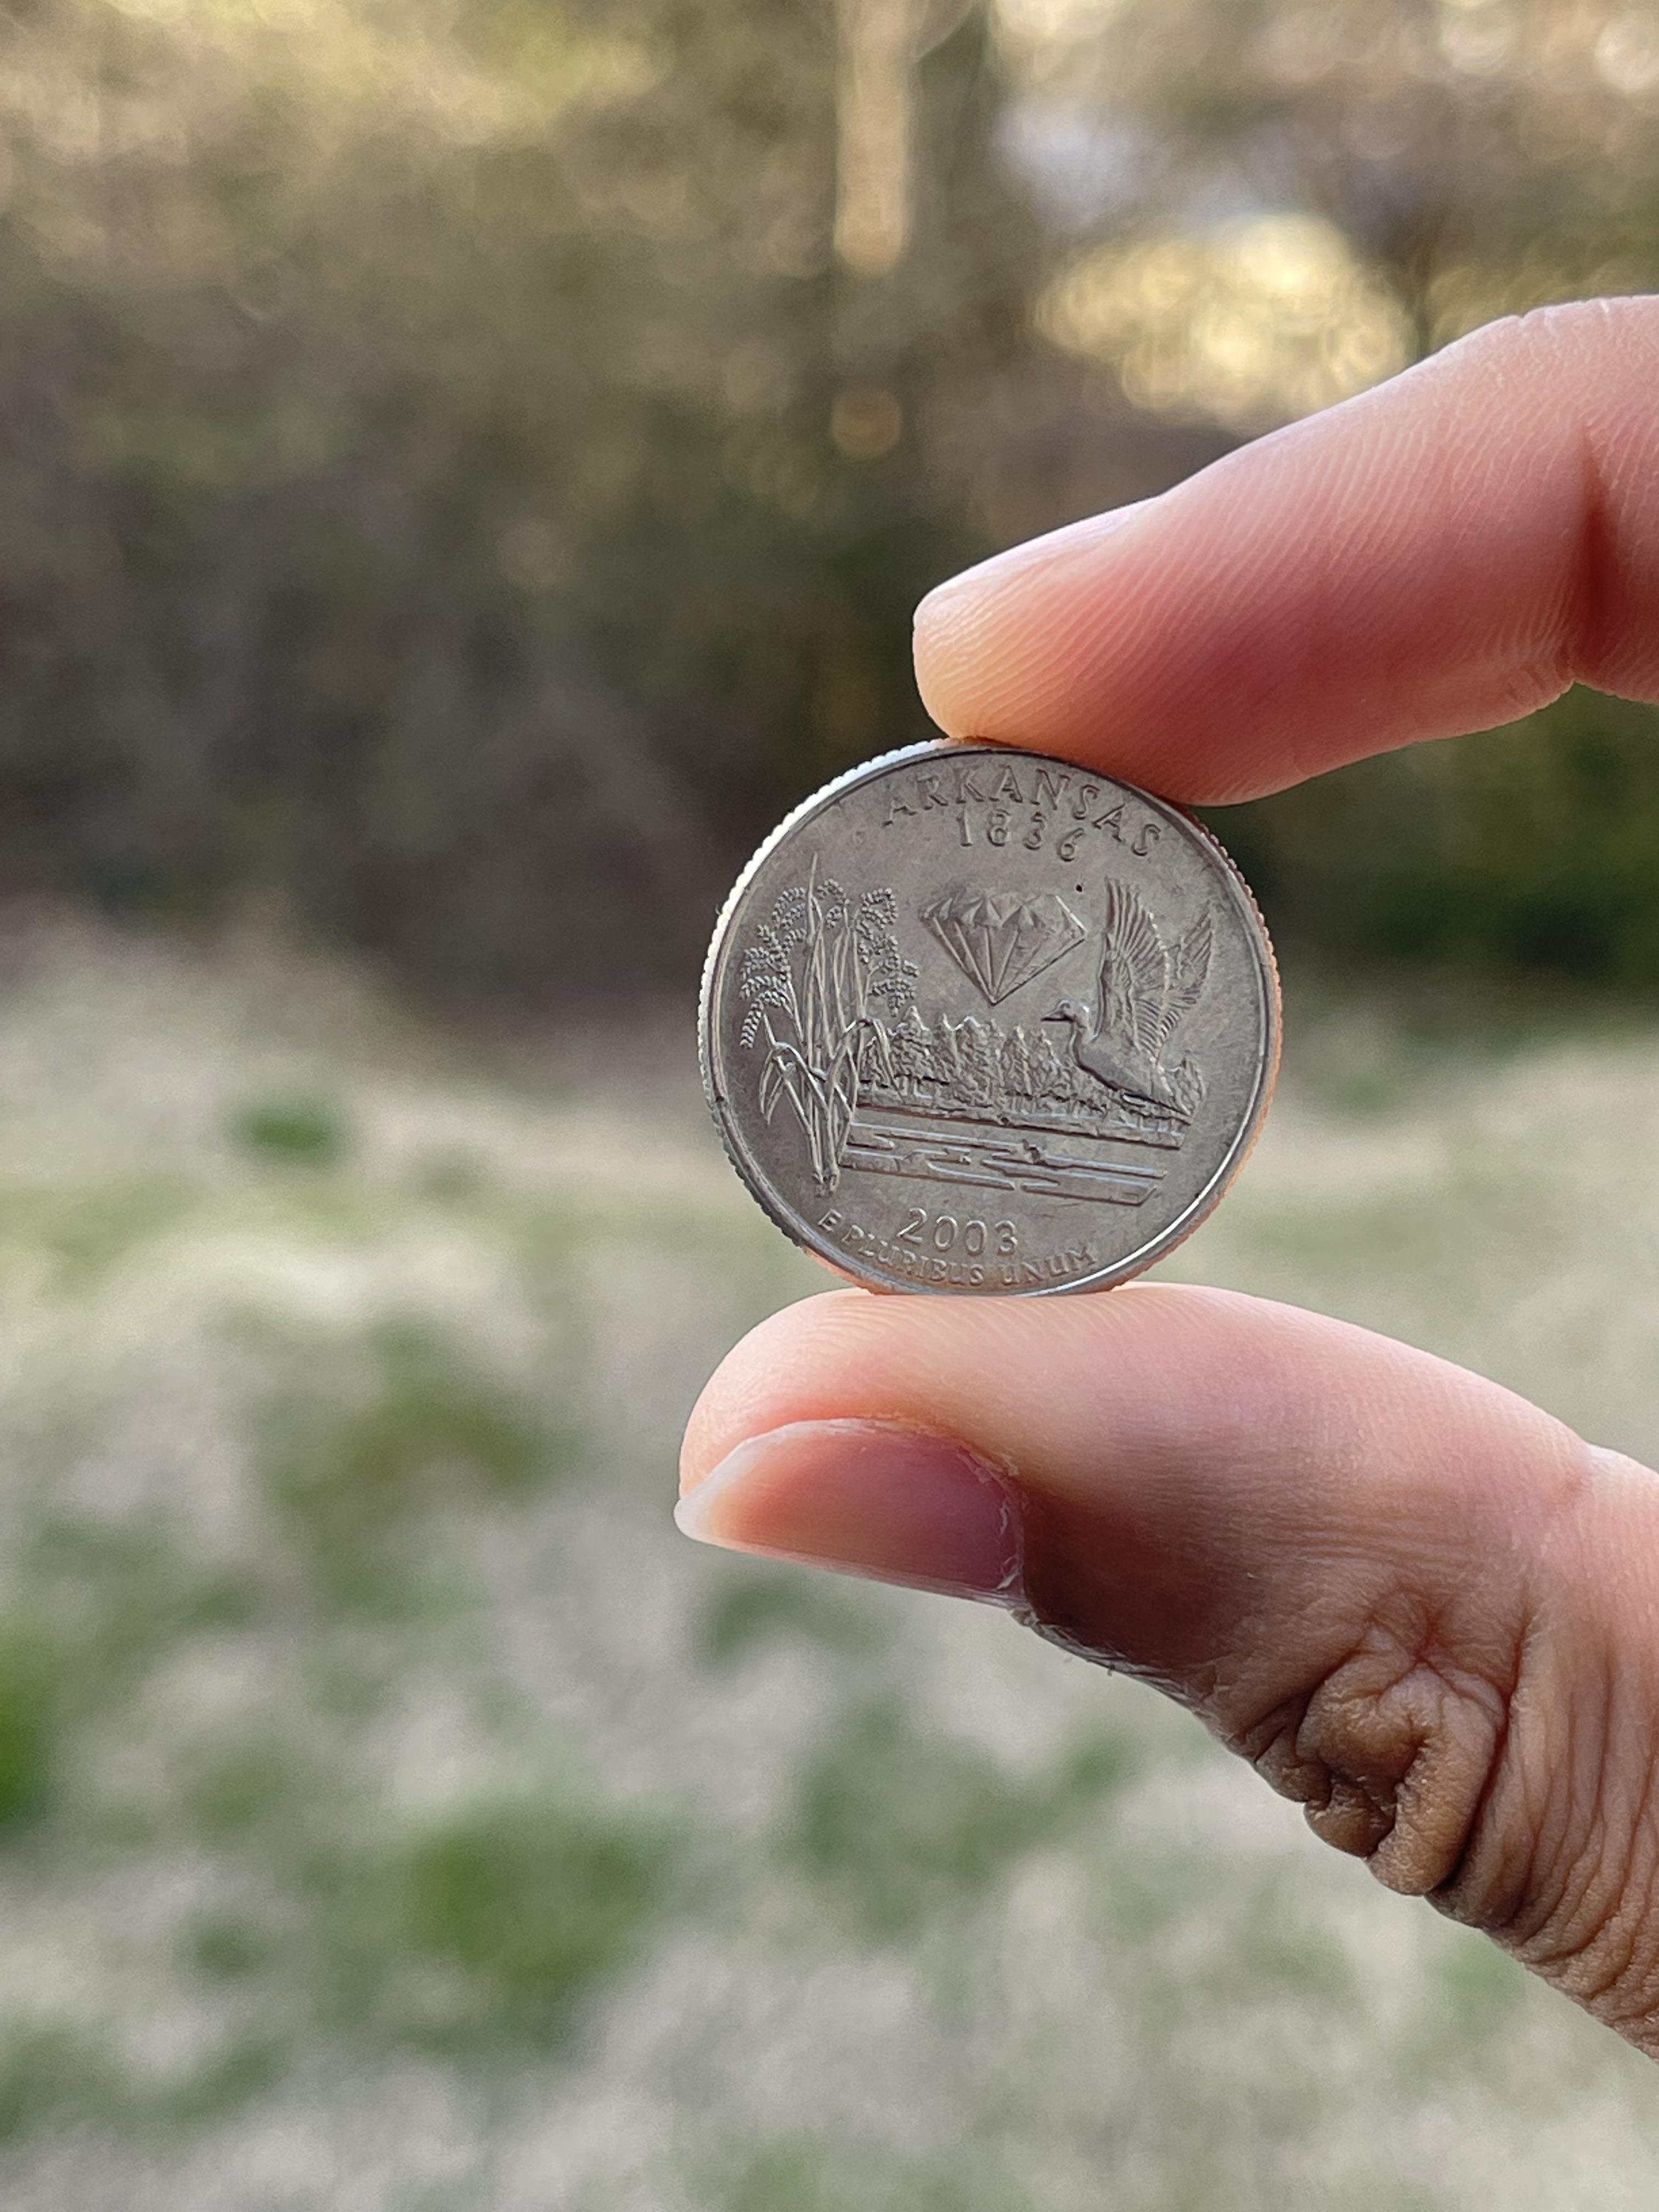Quarter: (694, 733, 1284, 1310)
